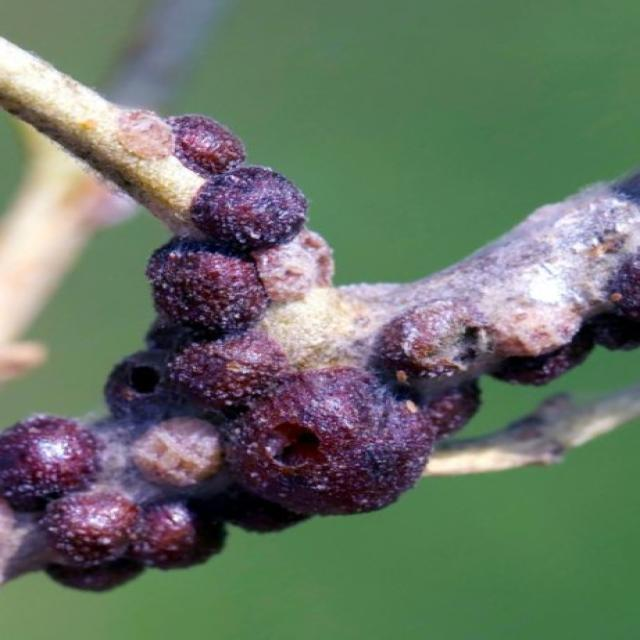Black Scale: (106, 320, 435, 531), (0, 394, 226, 590), (147, 115, 330, 330), (380, 275, 493, 438), (505, 268, 639, 385)
